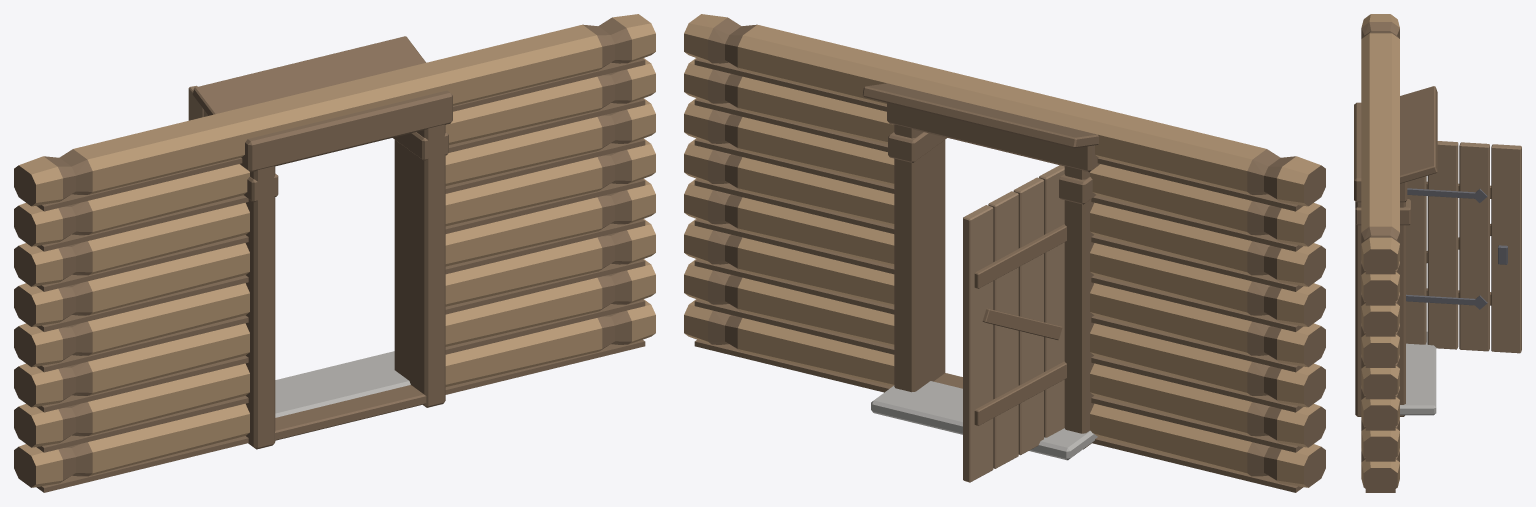
File: laft_wall_doorway.glb
3 views of the same model, side by side, from view 1: azimuth 30°, elevation 25°; view 2: azimuth 150°, elevation 25°; view 3: azimuth 270°, elevation 25° (orthographic). The views are drawn at different scales.
Parts seen in each view (by area): view 1: laft_wall_doorway; view 2: laft_wall_doorway; view 3: laft_wall_doorway.
Boxes of the visible parts, box(x1,y1,x2,y2) form: laft_wall_doorway: box(14, 14, 655, 492); laft_wall_doorway: box(684, 14, 1325, 492); laft_wall_doorway: box(1354, 14, 1521, 492).
Bounding box in the file's own units: 4.6 × 2.33 × 1.39.
